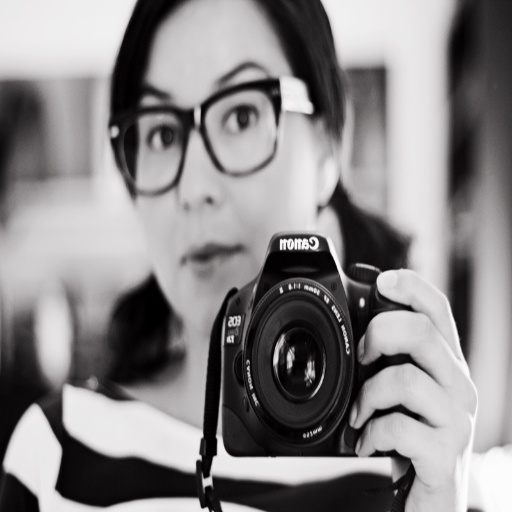hand: (341, 239, 467, 488)
